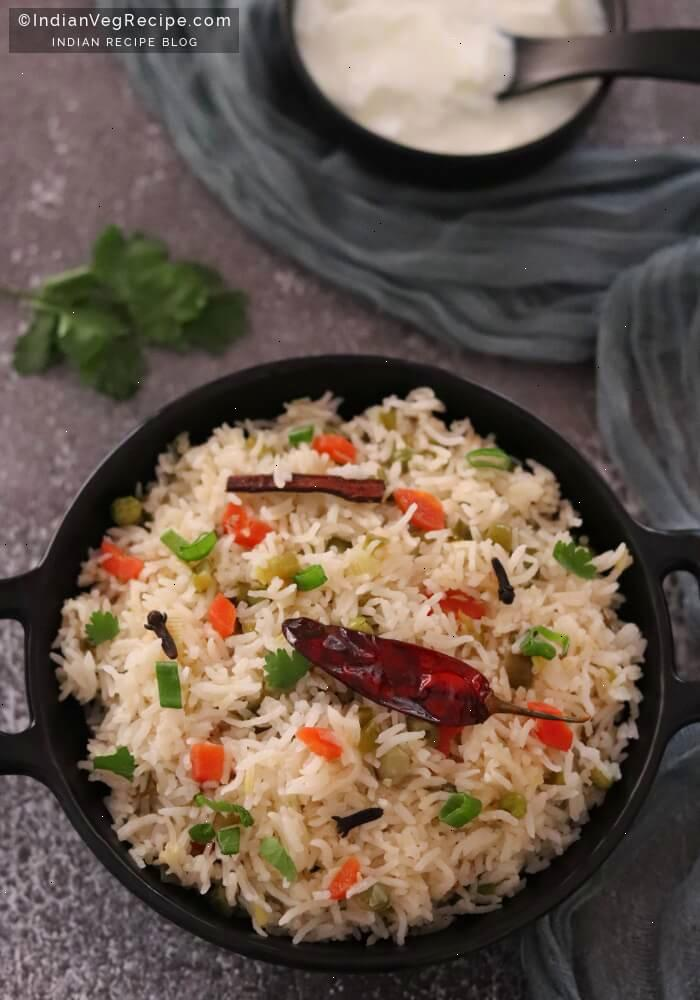veg-pulao: (141, 441, 610, 927)
yogurt: (301, 0, 610, 141)
